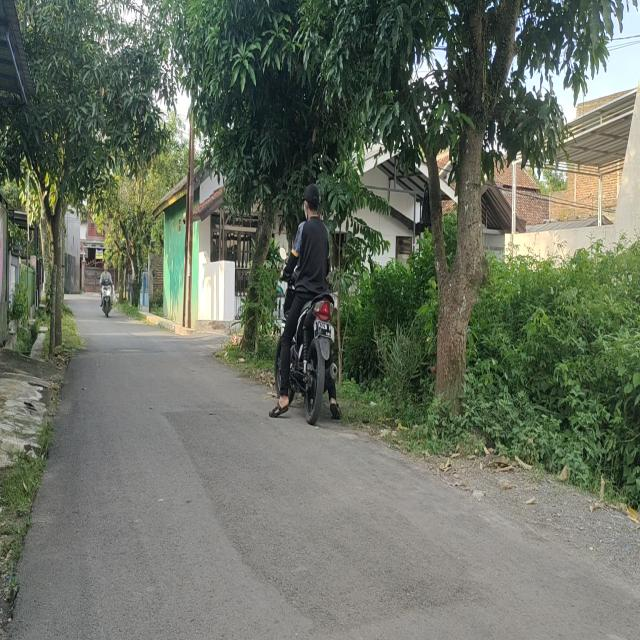no-helmet: (304, 181, 322, 222), (102, 260, 110, 275)
